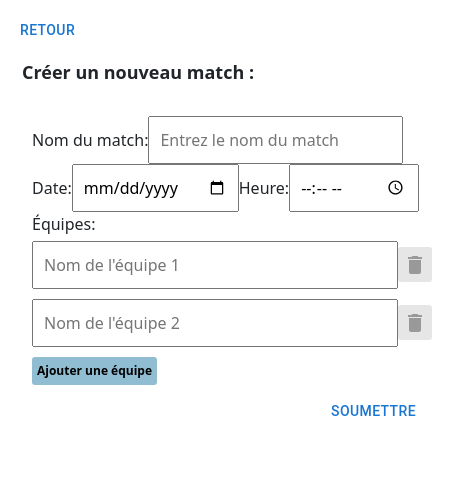
Test: NewGame Component › Bouton ajouter une équipe fontionnel
Expected: the number of fields with placeholder "Nom de l'équipe 1" is 2, x1=32 y1=240 x2=398 y2=288; x1=32 y1=298 x2=398 y2=346
Step 1. Click the button with class "addTeamButton" → (94, 370), box x1=32 y1=356 x2=157 y2=384
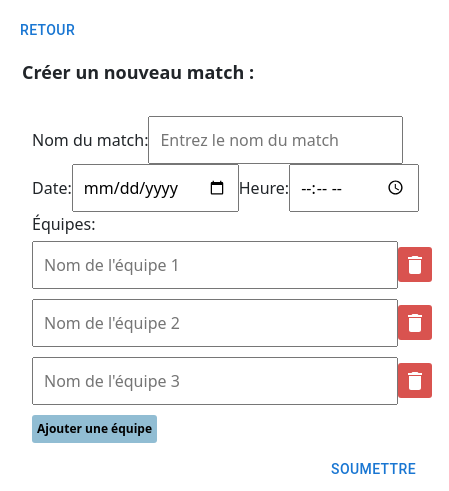
Expected: the number of fields with placeholder "Nom de l'équipe 1" is 3, x1=32 y1=240 x2=398 y2=288; x1=32 y1=298 x2=398 y2=346; x1=32 y1=356 x2=398 y2=404
